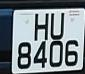0: (48, 38, 65, 70)
4: (32, 40, 49, 72)
6: (64, 37, 80, 70)
8: (15, 40, 33, 72)
H: (33, 10, 51, 40)
U: (49, 10, 67, 40)
